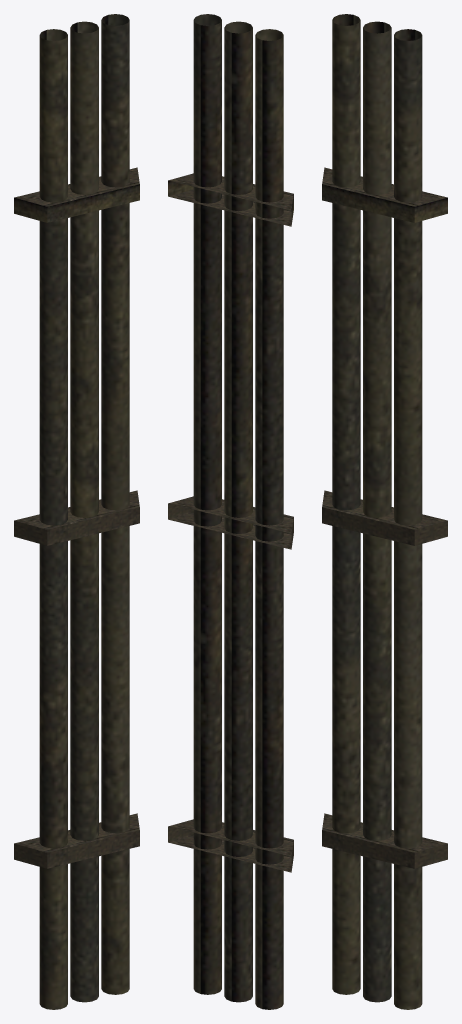
Rendered from pipes_hr_1.obj.
3 renders of one model, left to right at view 1: azimuth 30°, elevation 25°; view 2: azimuth 150°, elevation 25°; view 3: azimuth 330°, elevation 25°, orthographic.
Parts seen in each view (by area): view 1: pipes_hr_1; view 2: pipes_hr_1; view 3: pipes_hr_1.
Boxes of the visible parts, x1,y1,x2,y2 form: pipes_hr_1: (14, 14, 139, 1009); pipes_hr_1: (168, 14, 293, 1009); pipes_hr_1: (322, 14, 447, 1009).
Size of the model in its own units: 0.4 by 3 by 0.1.
